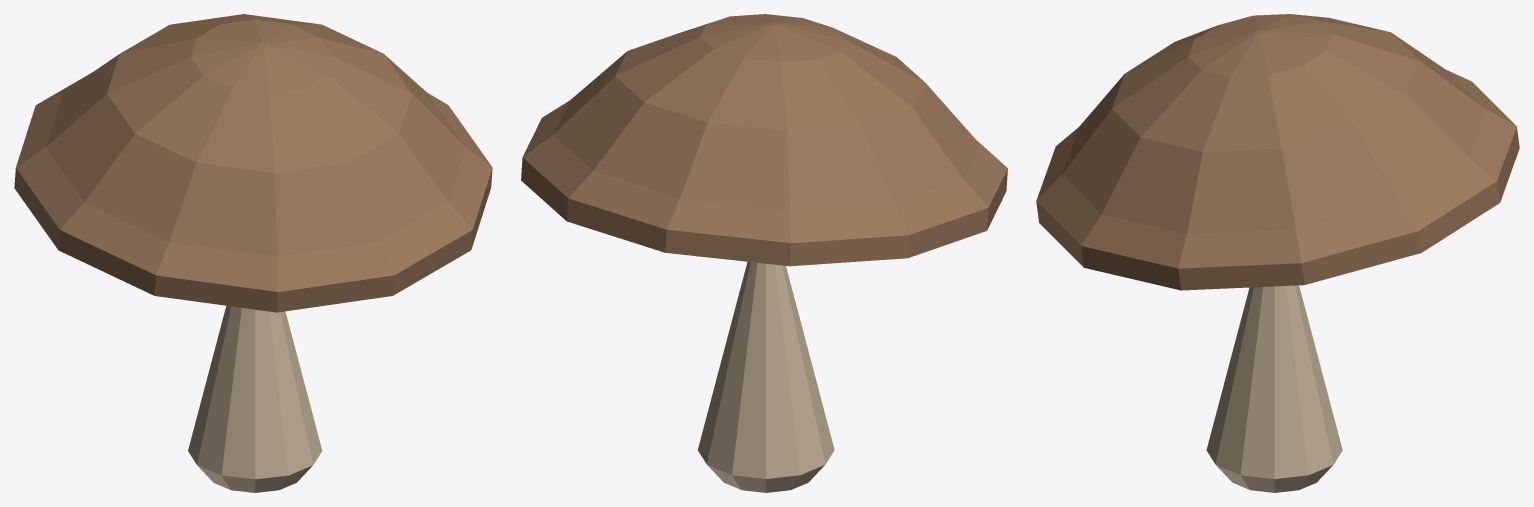
The picture shows the model from 3 angles, left to right: view 1: azimuth 30°, elevation 25°; view 2: azimuth 150°, elevation 25°; view 3: azimuth 270°, elevation 25°; orthographic projection.
Parts seen in each view (by area): view 1: facet_band, stem_segment; view 2: facet_band, stem_segment; view 3: facet_band, stem_segment.
Part boxes in pixels (<box>): facet_band: <box>14,14,492,312</box>; stem_segment: <box>188,305,322,492</box>; facet_band: <box>521,14,1007,266</box>; stem_segment: <box>698,261,834,492</box>; facet_band: <box>1036,14,1519,290</box>; stem_segment: <box>1206,285,1342,492</box>.
Size of the model in its own units: 0.0995 by 0.0999 by 0.0993.
